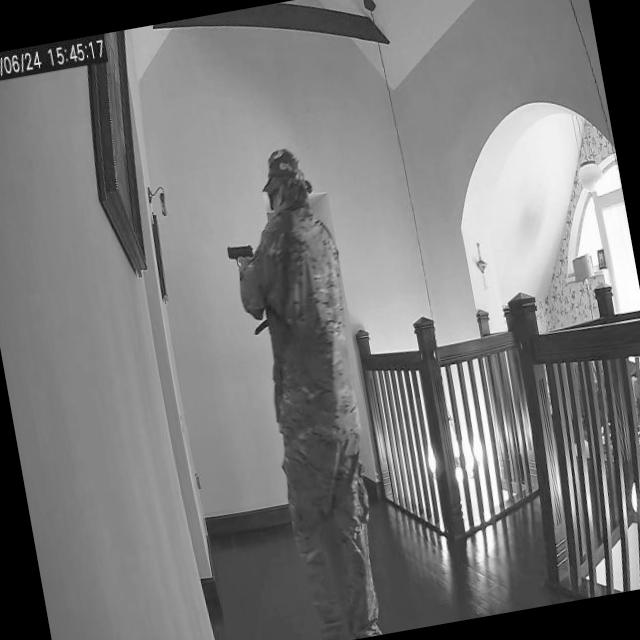gun: (226, 238, 257, 272)
person with a gun: (242, 141, 396, 640)
